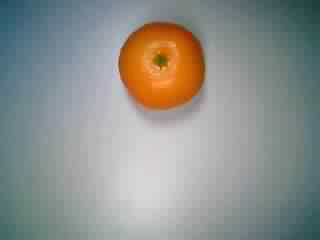orange: (116, 14, 211, 116)
